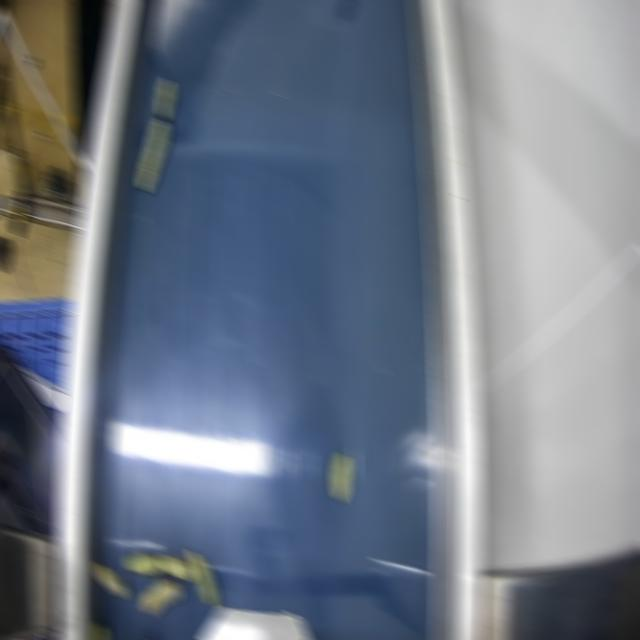Baby Potato: (135, 117, 169, 190), (189, 549, 218, 606), (141, 579, 181, 614), (95, 559, 127, 598), (126, 550, 164, 580), (160, 550, 196, 581), (332, 449, 350, 503), (156, 76, 174, 123), (91, 612, 109, 640)
